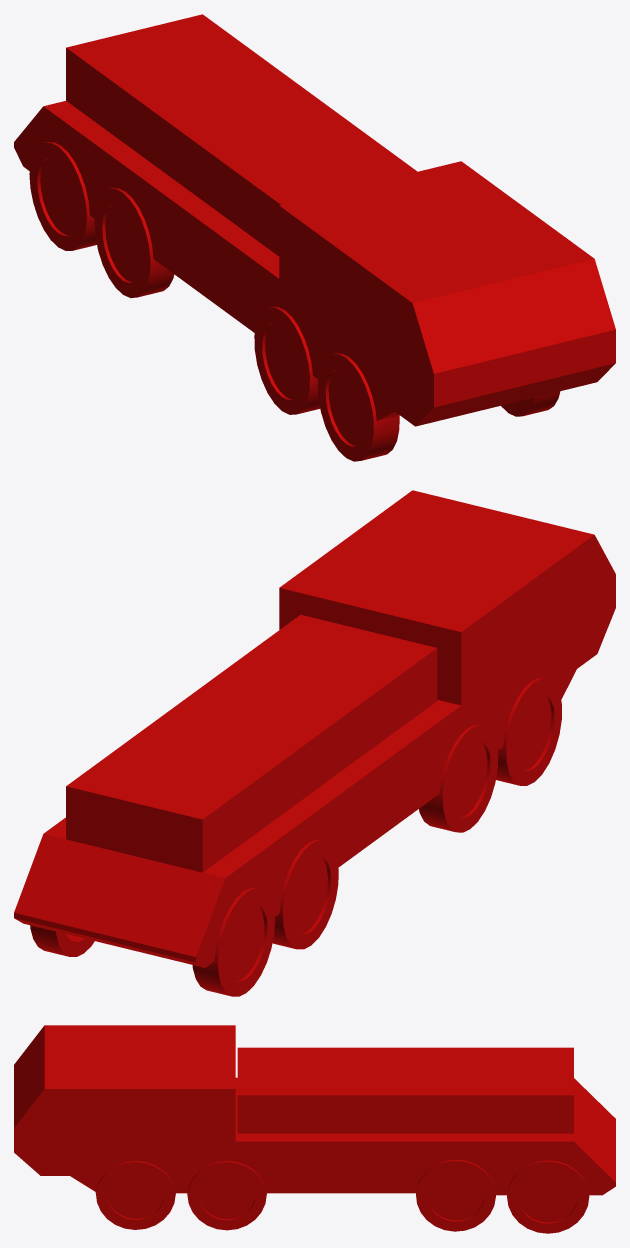
File: Boardgame_Troop_HQ_Token_Red_01.fbx
The picture shows the model from 3 angles, top to bottom: view 1: azimuth 30°, elevation 25°; view 2: azimuth 150°, elevation 25°; view 3: azimuth 270°, elevation 25°; orthographic projection. The views are drawn at different scales.
Visible parts, largest first — view 1: Model; view 2: Model; view 3: Model.
Boxes of the visible parts, bbox=[...] form: Model: bbox=[14, 14, 615, 461]; Model: bbox=[14, 490, 615, 996]; Model: bbox=[14, 1025, 615, 1233].
Bounding box in the file's own units: 142 × 144 × 547.
